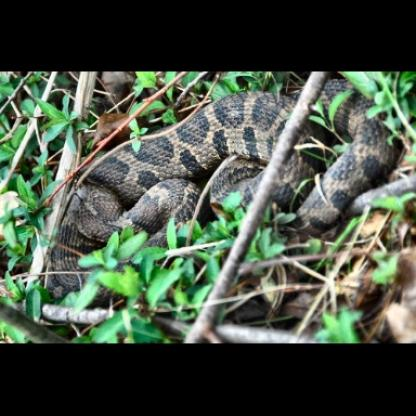Snake: (10, 72, 413, 269)
